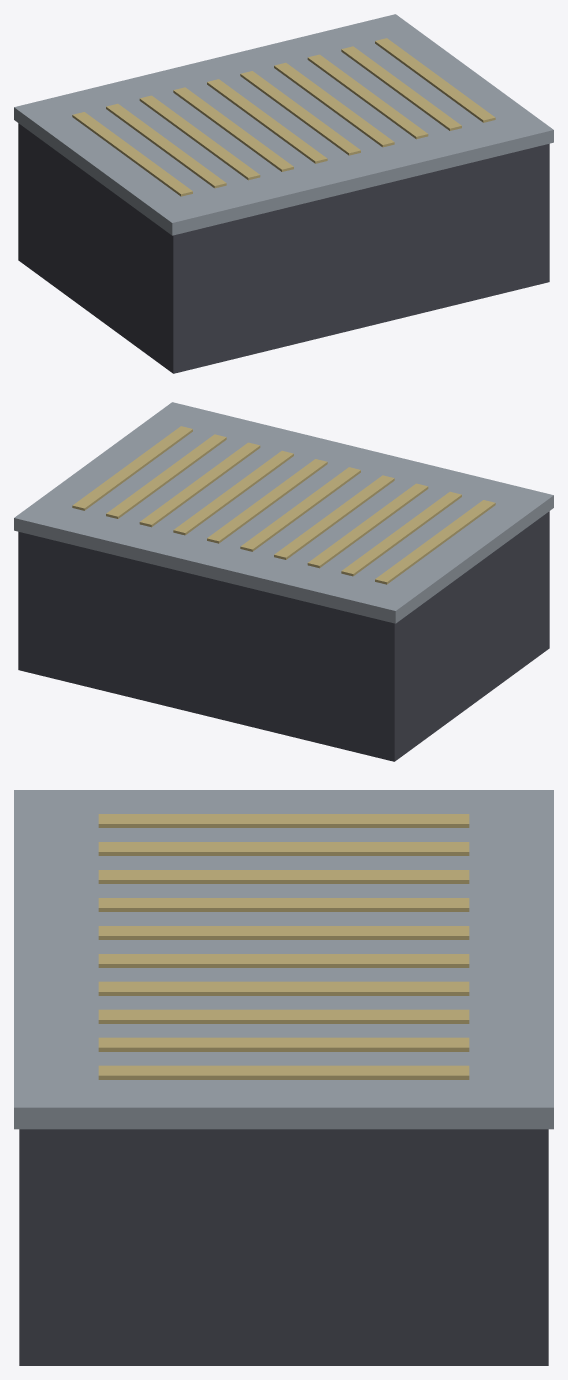
3 renders of one model, top to bottom at view 1: azimuth 30°, elevation 25°; view 2: azimuth 150°, elevation 25°; view 3: azimuth 270°, elevation 25°, orthographic. The views are drawn at different scales.
Visible parts, largest first — view 1: 000_Connector_Black__PSMAT__Connector_Black, 001_Steel_Polished__PSMAT__Steel_Polished, 004_Gold_ENIG__PSMAT__Gold_ENIG, 009_Gold_ENIG__PSMAT__Gold_ENIG, 002_Gold_ENIG__PSMAT__Gold_ENIG, 003_Gold_ENIG__PSMAT__Gold_ENIG, 005_Gold_ENIG__PSMAT__Gold_ENIG, 006_Gold_ENIG__PSMAT__Gold_ENIG, 010_Gold_ENIG__PSMAT__Gold_ENIG, 011_Gold_ENIG__PSMAT__Gold_ENIG, 007_Gold_ENIG__PSMAT__Gold_ENIG, 008_Gold_ENIG__PSMAT__Gold_ENIG; view 2: 000_Connector_Black__PSMAT__Connector_Black, 001_Steel_Polished__PSMAT__Steel_Polished, 004_Gold_ENIG__PSMAT__Gold_ENIG, 009_Gold_ENIG__PSMAT__Gold_ENIG, 002_Gold_ENIG__PSMAT__Gold_ENIG, 003_Gold_ENIG__PSMAT__Gold_ENIG, 005_Gold_ENIG__PSMAT__Gold_ENIG, 006_Gold_ENIG__PSMAT__Gold_ENIG, 010_Gold_ENIG__PSMAT__Gold_ENIG, 011_Gold_ENIG__PSMAT__Gold_ENIG, 007_Gold_ENIG__PSMAT__Gold_ENIG, 008_Gold_ENIG__PSMAT__Gold_ENIG; view 3: 001_Steel_Polished__PSMAT__Steel_Polished, 000_Connector_Black__PSMAT__Connector_Black, 008_Gold_ENIG__PSMAT__Gold_ENIG, 009_Gold_ENIG__PSMAT__Gold_ENIG, 010_Gold_ENIG__PSMAT__Gold_ENIG, 011_Gold_ENIG__PSMAT__Gold_ENIG, 002_Gold_ENIG__PSMAT__Gold_ENIG, 003_Gold_ENIG__PSMAT__Gold_ENIG, 004_Gold_ENIG__PSMAT__Gold_ENIG, 005_Gold_ENIG__PSMAT__Gold_ENIG, 006_Gold_ENIG__PSMAT__Gold_ENIG, 007_Gold_ENIG__PSMAT__Gold_ENIG.
Boxes of the visible parts, x1=… form: 000_Connector_Black__PSMAT__Connector_Black: x1=18, y1=123, x2=549, y2=373; 001_Steel_Polished__PSMAT__Steel_Polished: x1=14, y1=14, x2=553, y2=235; 004_Gold_ENIG__PSMAT__Gold_ENIG: x1=139, y1=95, x2=260, y2=180; 009_Gold_ENIG__PSMAT__Gold_ENIG: x1=307, y1=54, x2=428, y2=139; 002_Gold_ENIG__PSMAT__Gold_ENIG: x1=72, y1=112, x2=192, y2=196; 003_Gold_ENIG__PSMAT__Gold_ENIG: x1=106, y1=103, x2=226, y2=188; 005_Gold_ENIG__PSMAT__Gold_ENIG: x1=173, y1=87, x2=293, y2=171; 006_Gold_ENIG__PSMAT__Gold_ENIG: x1=207, y1=79, x2=327, y2=163; 010_Gold_ENIG__PSMAT__Gold_ENIG: x1=341, y1=46, x2=461, y2=130; 011_Gold_ENIG__PSMAT__Gold_ENIG: x1=375, y1=38, x2=495, y2=122; 007_Gold_ENIG__PSMAT__Gold_ENIG: x1=240, y1=71, x2=360, y2=155; 008_Gold_ENIG__PSMAT__Gold_ENIG: x1=274, y1=62, x2=394, y2=147; 000_Connector_Black__PSMAT__Connector_Black: x1=18, y1=511, x2=549, y2=761; 001_Steel_Polished__PSMAT__Steel_Polished: x1=14, y1=402, x2=553, y2=623; 004_Gold_ENIG__PSMAT__Gold_ENIG: x1=307, y1=483, x2=428, y2=568; 009_Gold_ENIG__PSMAT__Gold_ENIG: x1=139, y1=442, x2=260, y2=527; 002_Gold_ENIG__PSMAT__Gold_ENIG: x1=375, y1=500, x2=495, y2=584; 003_Gold_ENIG__PSMAT__Gold_ENIG: x1=341, y1=491, x2=461, y2=576; 005_Gold_ENIG__PSMAT__Gold_ENIG: x1=274, y1=475, x2=394, y2=559; 006_Gold_ENIG__PSMAT__Gold_ENIG: x1=240, y1=467, x2=360, y2=551; 010_Gold_ENIG__PSMAT__Gold_ENIG: x1=106, y1=434, x2=226, y2=518; 011_Gold_ENIG__PSMAT__Gold_ENIG: x1=72, y1=426, x2=192, y2=510; 007_Gold_ENIG__PSMAT__Gold_ENIG: x1=207, y1=459, x2=327, y2=543; 008_Gold_ENIG__PSMAT__Gold_ENIG: x1=173, y1=450, x2=293, y2=535; 001_Steel_Polished__PSMAT__Steel_Polished: x1=14, y1=790, x2=553, y2=1129; 000_Connector_Black__PSMAT__Connector_Black: x1=19, y1=1129, x2=548, y2=1365; 008_Gold_ENIG__PSMAT__Gold_ENIG: x1=98, y1=981, x2=469, y2=995; 009_Gold_ENIG__PSMAT__Gold_ENIG: x1=98, y1=1009, x2=469, y2=1023; 010_Gold_ENIG__PSMAT__Gold_ENIG: x1=98, y1=1037, x2=469, y2=1051; 011_Gold_ENIG__PSMAT__Gold_ENIG: x1=98, y1=1065, x2=469, y2=1079; 002_Gold_ENIG__PSMAT__Gold_ENIG: x1=98, y1=814, x2=469, y2=827; 003_Gold_ENIG__PSMAT__Gold_ENIG: x1=98, y1=842, x2=469, y2=855; 004_Gold_ENIG__PSMAT__Gold_ENIG: x1=98, y1=870, x2=469, y2=883; 005_Gold_ENIG__PSMAT__Gold_ENIG: x1=98, y1=898, x2=469, y2=911; 006_Gold_ENIG__PSMAT__Gold_ENIG: x1=98, y1=926, x2=469, y2=939; 007_Gold_ENIG__PSMAT__Gold_ENIG: x1=98, y1=954, x2=469, y2=967.
Bounding box in the file's own units: 0.0142 × 0.00551 × 0.0102.
